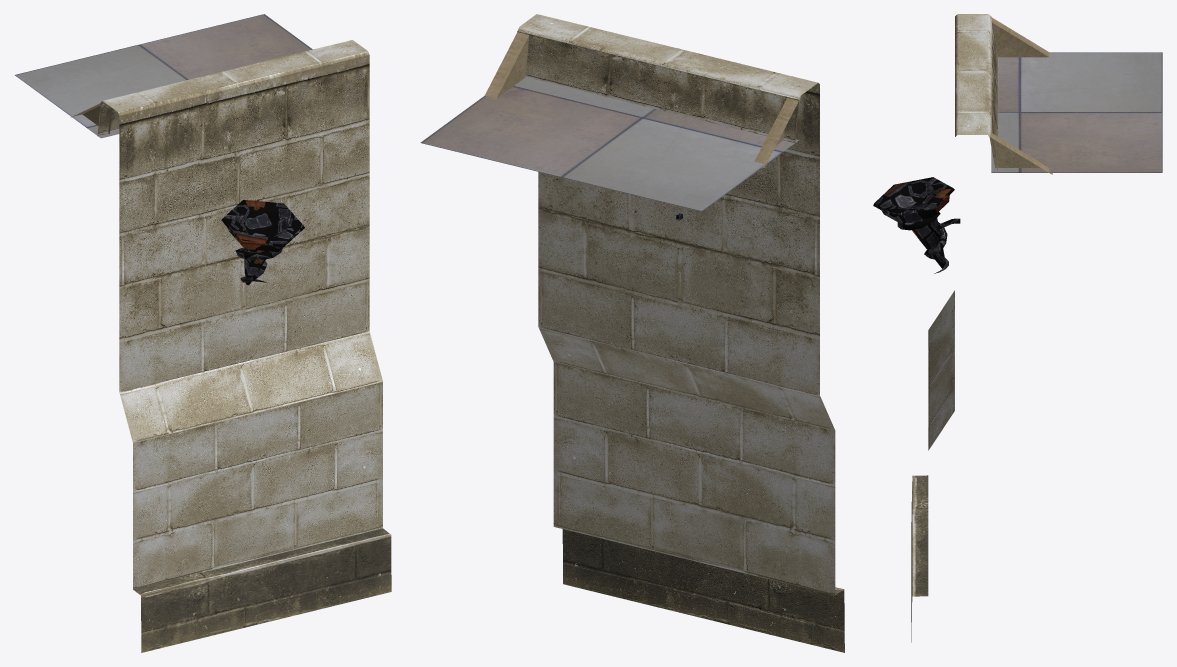
The model's file is caslte-wall-w-torch-1.fbx.
3 views of the same model, side by side, from view 1: azimuth 30°, elevation 25°; view 2: azimuth 150°, elevation 25°; view 3: azimuth 270°, elevation 25° (orthographic). The views are drawn at different scales.
Visible parts, largest first — view 1: caslte-wall-w-torch-1; view 2: caslte-wall-w-torch-1; view 3: caslte-wall-w-torch-1.
Part boxes in pixels (x1,y1,x2,y2): caslte-wall-w-torch-1: [15, 14, 391, 652]; caslte-wall-w-torch-1: [420, 14, 844, 652]; caslte-wall-w-torch-1: [873, 14, 1162, 642].
Size of the model in its own units: 200 by 400 by 203.
